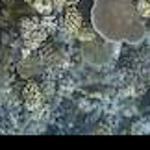alive: (2, 4, 146, 134)
